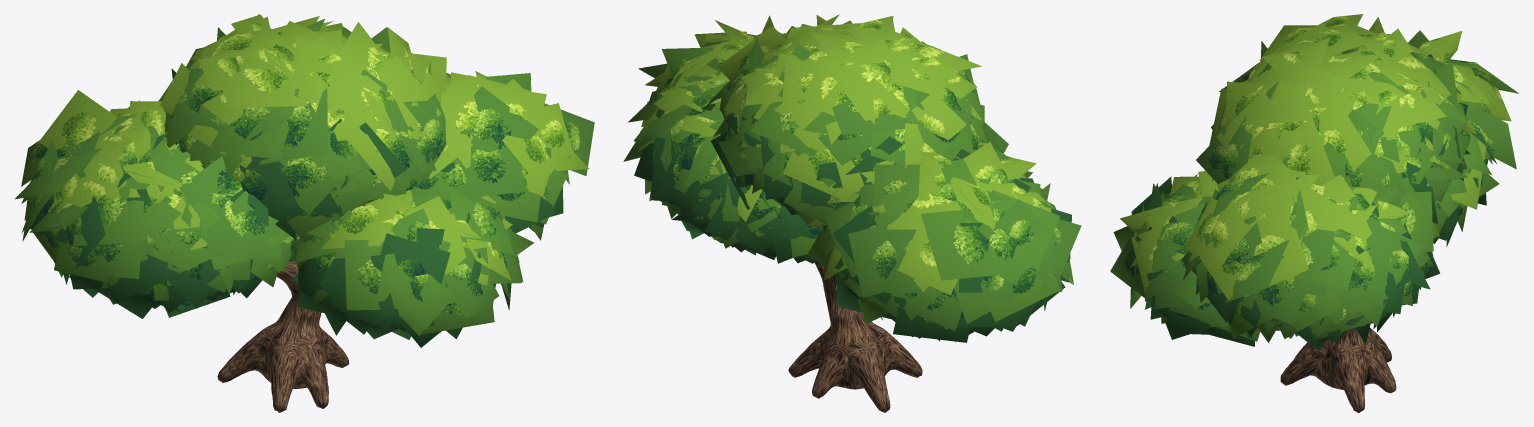
Rendered from Tree_Oak.fbx.
3 views of the same model, side by side, from view 1: azimuth 30°, elevation 25°; view 2: azimuth 150°, elevation 25°; view 3: azimuth 270°, elevation 25° (orthographic). The views are drawn at different scales.
Parts seen in each view (by area): view 1: Tree_Leaves, Tree_Trunk; view 2: Tree_Leaves, Tree_Trunk; view 3: Tree_Leaves, Tree_Trunk.
Boxes of the visible parts, x1,y1,x2,y2 form: Tree_Leaves: [15, 14, 594, 347]; Tree_Trunk: [217, 260, 348, 412]; Tree_Leaves: [623, 14, 1081, 342]; Tree_Trunk: [788, 261, 922, 412]; Tree_Leaves: [1110, 14, 1519, 350]; Tree_Trunk: [1280, 327, 1396, 412].
Bounding box in the file's own units: 1473 × 1003 × 1075.
Materials: 2 (2 with a texture image).
